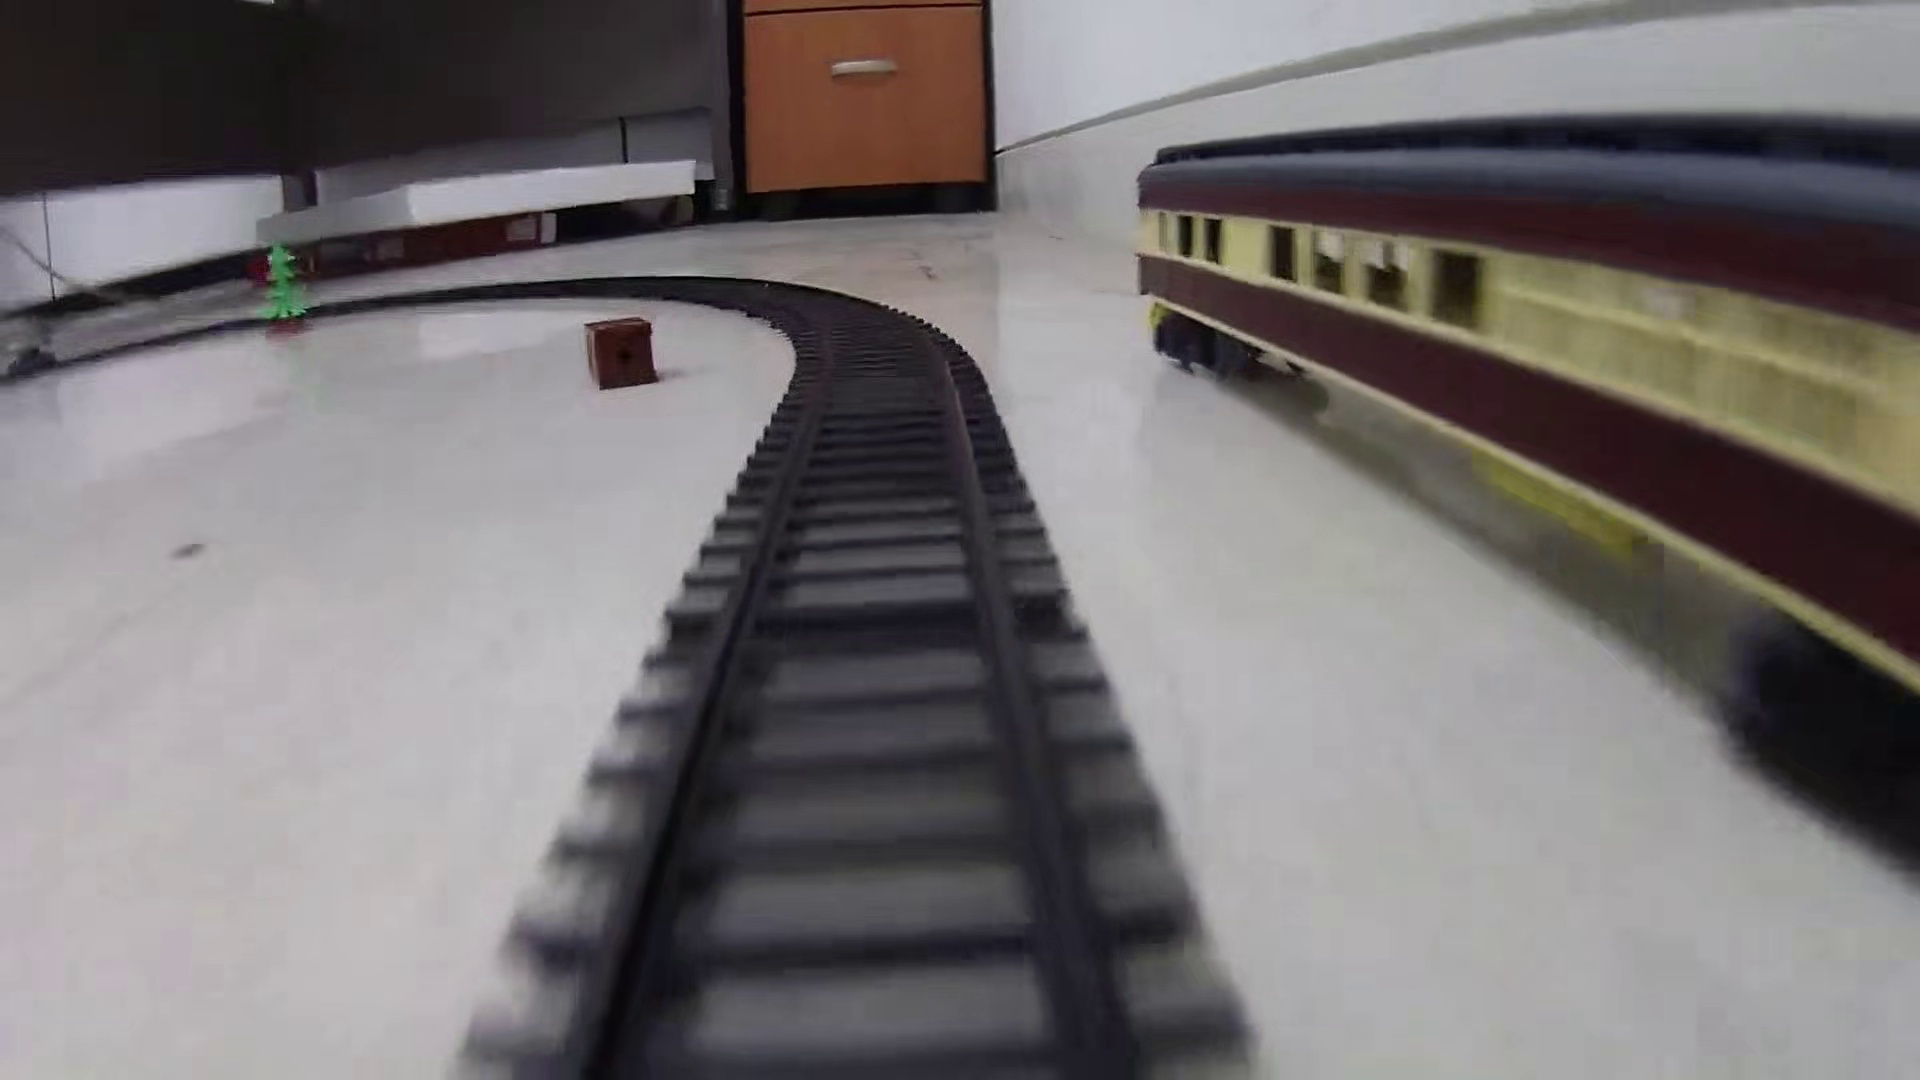box: (583, 316, 661, 392)
tree: (256, 241, 310, 344)
